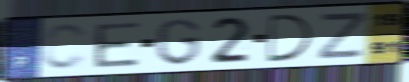2: (209, 15, 254, 65)
C: (40, 22, 91, 72)
D: (265, 12, 316, 64)
E: (93, 20, 143, 70)
G: (154, 17, 203, 67)
Z: (314, 10, 369, 61)
